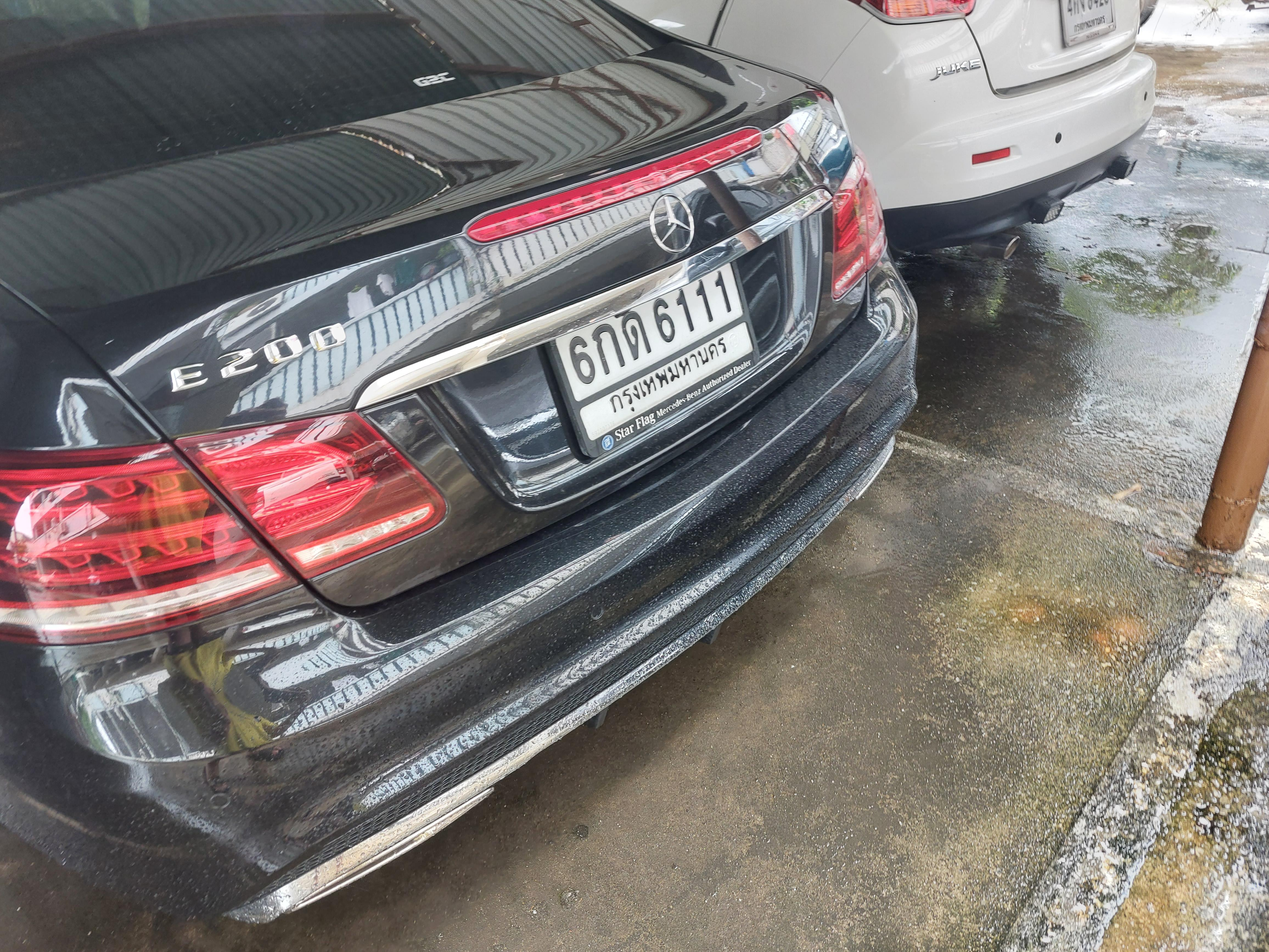license-plate: (538, 250, 763, 466)
